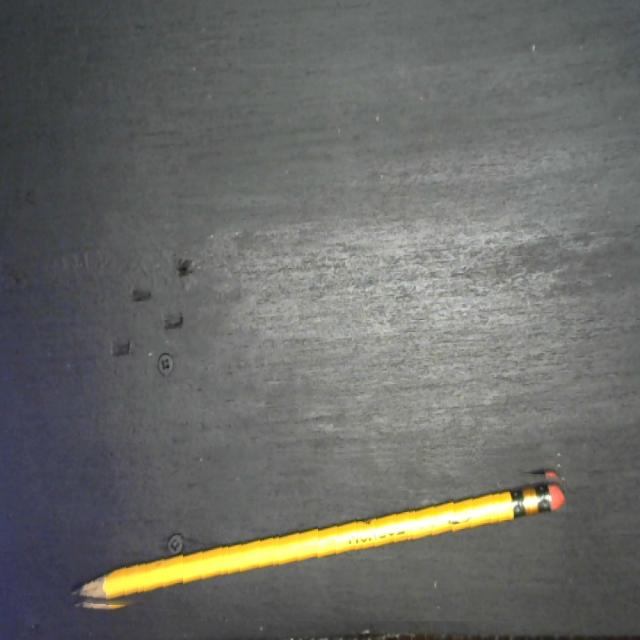biodegradable: (71, 446, 566, 621)
